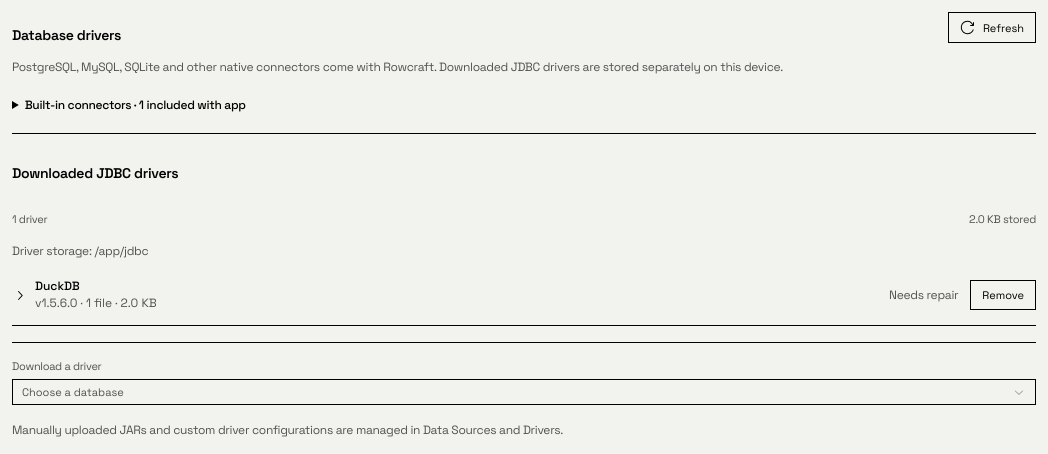
labels damaged files as needing repair and old versions as updateable
The width and height of the screenshot is (1048, 454).
Expected: the text "Needs repair" is shown, [889, 286, 958, 305]
Click the button "Refresh". click: [992, 28]
box: [948, 12, 1036, 43]
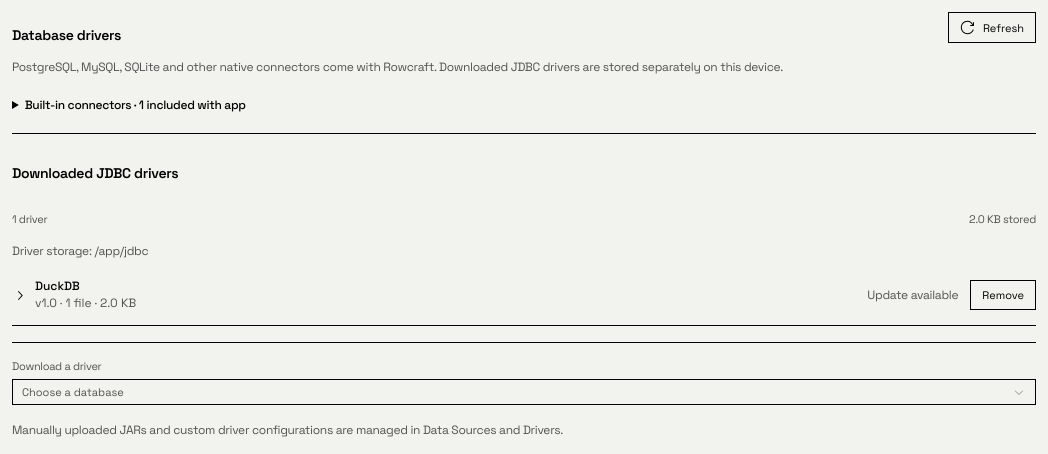
Expected: the text "Update available" is shown, [867, 286, 958, 305]
